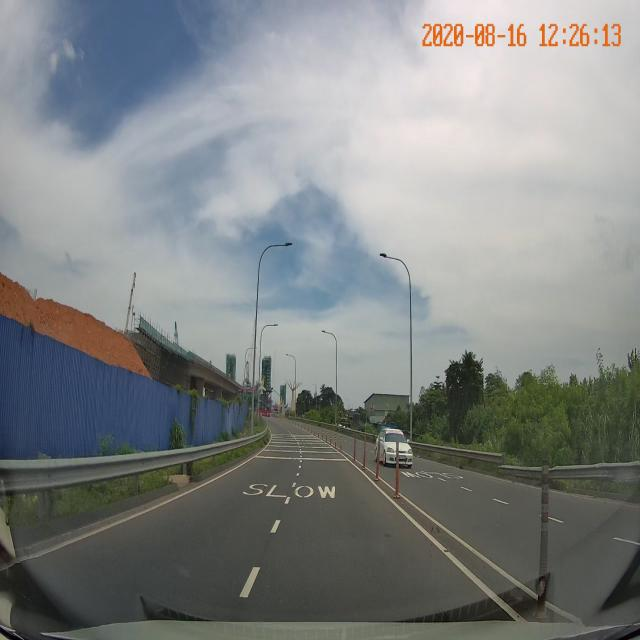SLOW: (238, 479, 340, 503)
